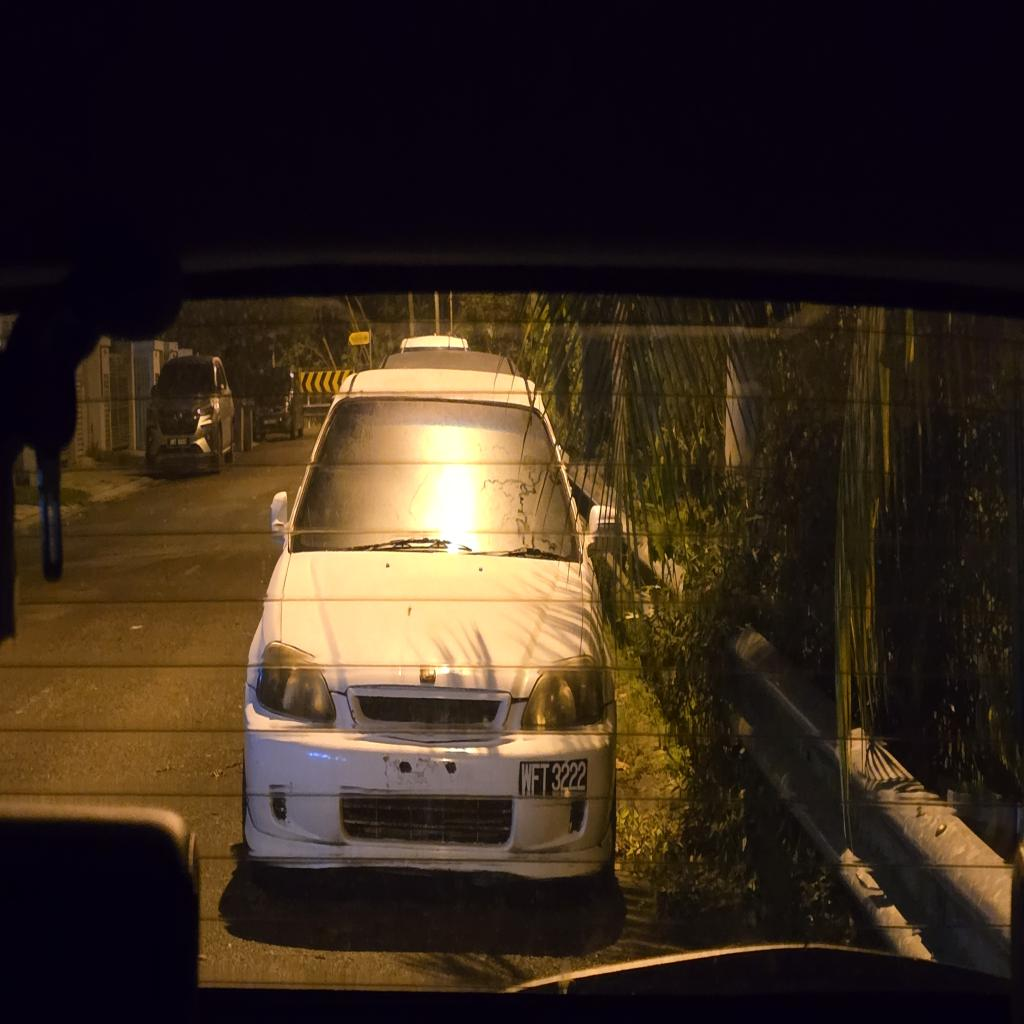car: (243, 369, 614, 878)
car plate: (520, 759, 587, 797)
